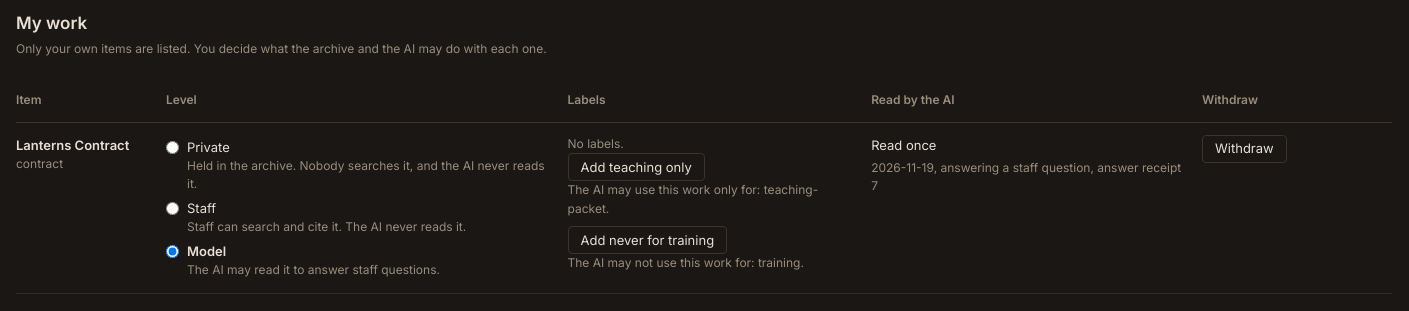
Test case: TermsView › Keep it closes the confirm without posting
Click the button with aria-label "Withdraw Lanterns Contract": [1244, 148] box x1=1202 y1=134 x2=1287 y2=162
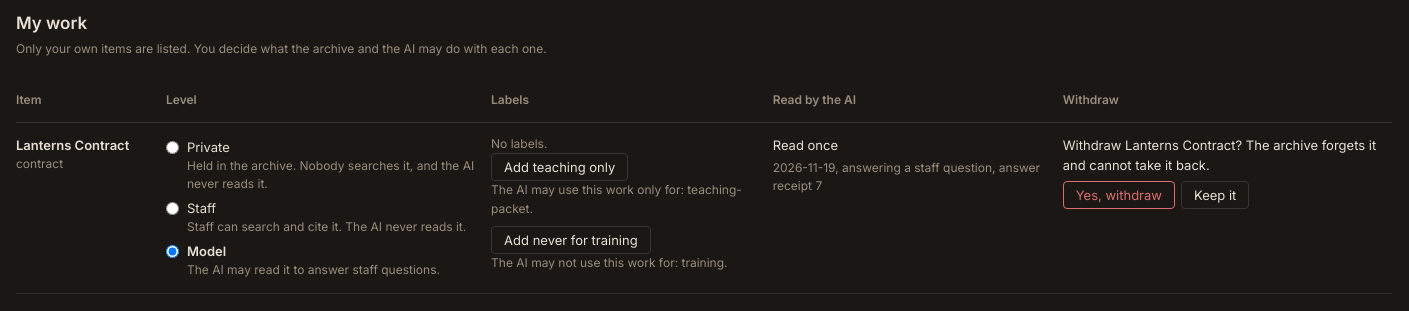
Click the button "Keep it": [1215, 195] box x1=1181 y1=181 x2=1249 y2=209
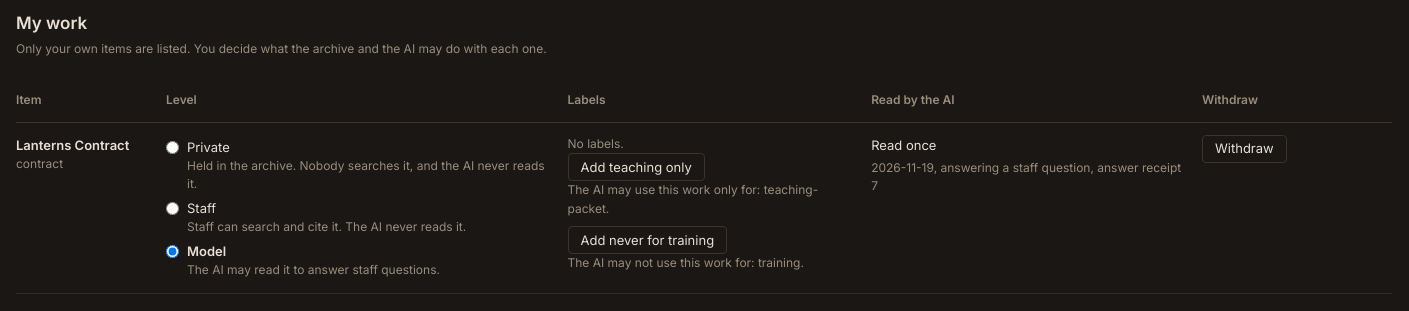
Expected: the button "Yes, withdraw" is gone
